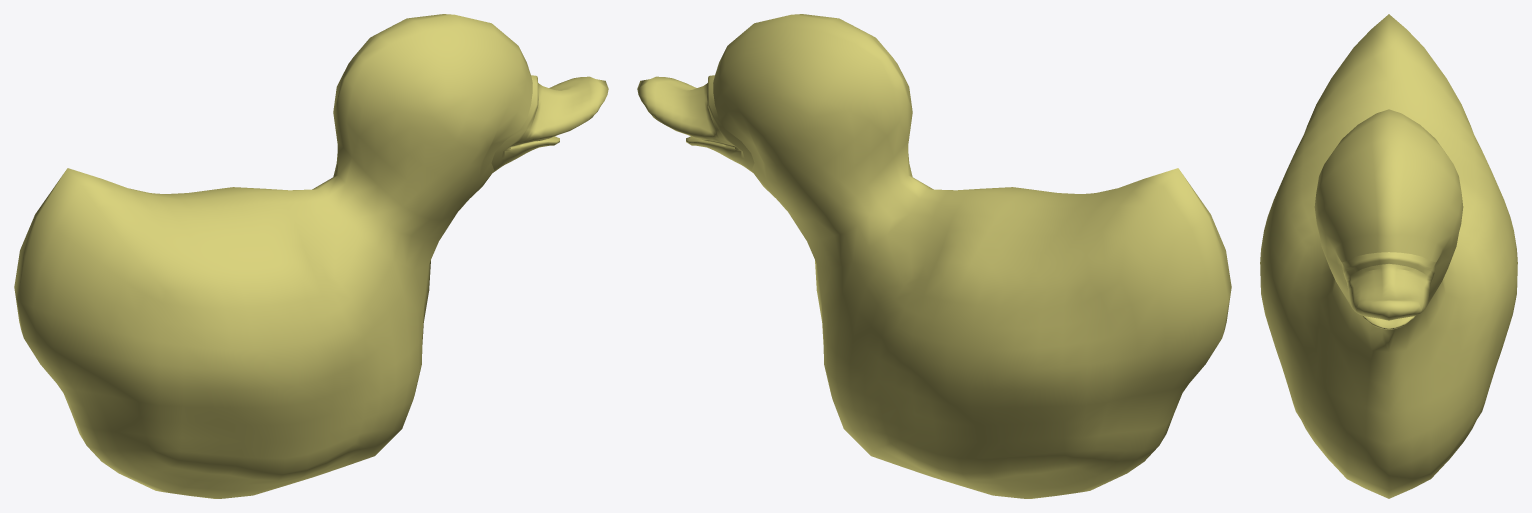
The model's file is RubberDuck_Model00.fbx.
3 views of the same model, side by side, from view 1: azimuth 30°, elevation 25°; view 2: azimuth 150°, elevation 25°; view 3: azimuth 270°, elevation 25° (orthographic). The views are drawn at different scales.
Visible parts, largest first — view 1: Duck; view 2: Duck; view 3: Duck.
Part boxes in pixels (left/top/right/bottom): Duck: left=14, top=14, right=608, bottom=498; Duck: left=637, top=14, right=1231, bottom=498; Duck: left=1260, top=14, right=1517, bottom=498.
Size of the model in its own units: 14 by 9.71 by 5.5.
